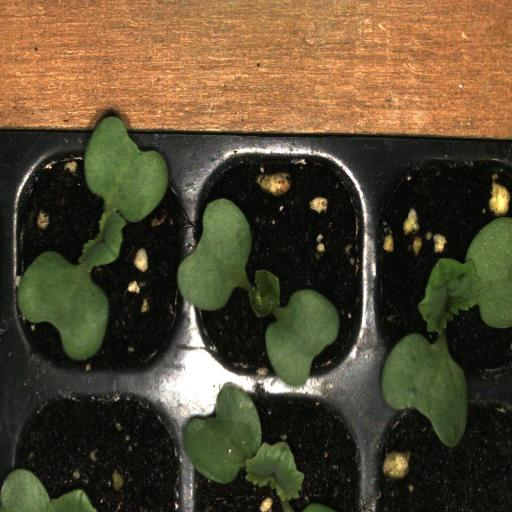Folha: (378, 333, 468, 448), (0, 468, 97, 512)
Germinacao: (4, 138, 188, 385), (191, 144, 367, 384), (367, 146, 512, 388), (189, 386, 368, 512)
